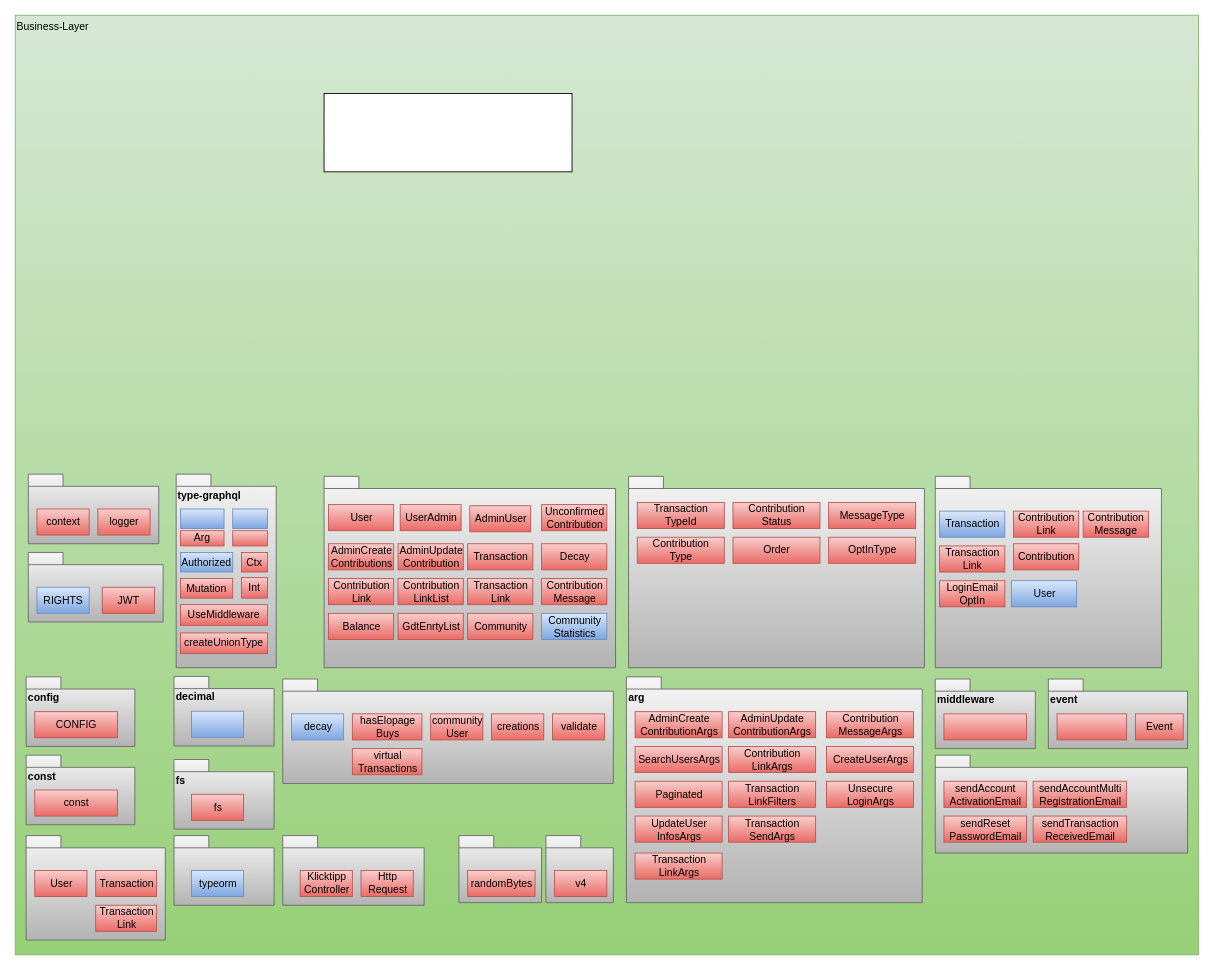
Image size: 1214x970. Some labels were removed from this diagram. The box of each missing label's shape, as (x1, y1, x2, y2) in pixels:
apis: (282, 835, 424, 905)
Args: (232, 530, 268, 546)
auth: (27, 552, 163, 622)
crypto: (458, 835, 542, 903)
dbTools: (173, 835, 274, 905)
entity: (934, 475, 1161, 668)
enum: (628, 475, 924, 668)
EventProtocol Emitter: (1056, 713, 1127, 740)
js-light: (191, 710, 244, 737)
klicktipp Middleware: (943, 713, 1027, 740)
mailer: (934, 754, 1188, 853)
model: (323, 475, 616, 668)
Query: (232, 508, 268, 529)
repository: (25, 835, 165, 940)
Resolver: (180, 508, 224, 529)
server: (27, 473, 159, 544)
StatisticsResolver + communityStatistics(): CommunityStatistics: (323, 93, 572, 172)
util: (282, 678, 613, 783)
uuid: (545, 835, 613, 903)
